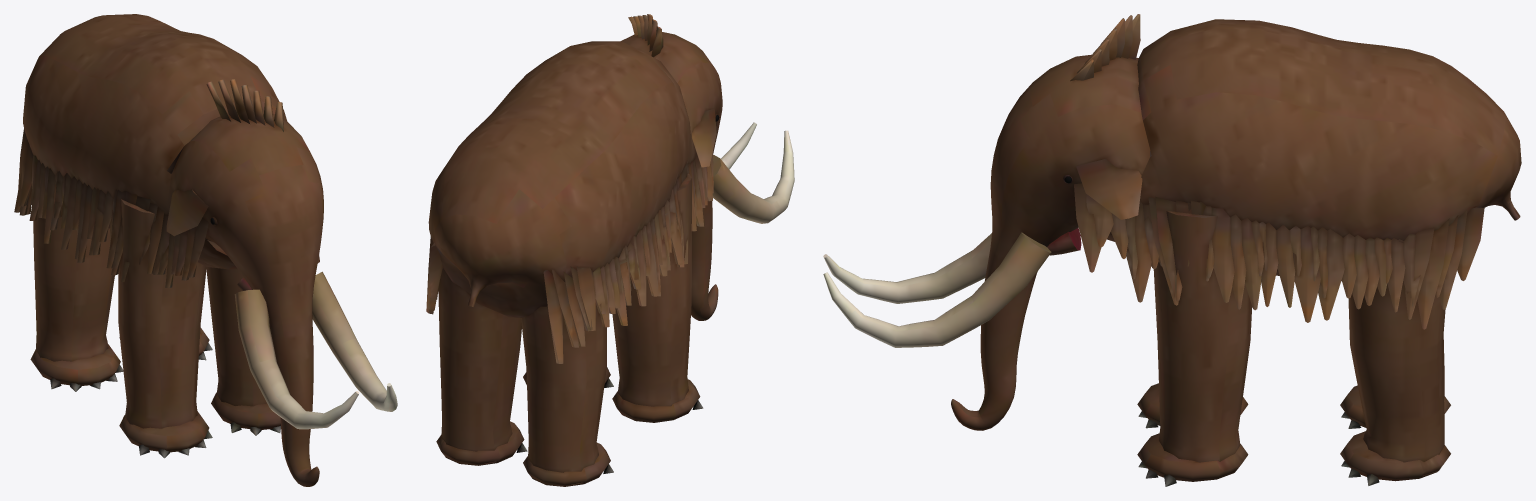
Rendered from mammoth.glb.
3 views of the same model, side by side, from view 1: azimuth 30°, elevation 25°; view 2: azimuth 150°, elevation 25°; view 3: azimuth 270°, elevation 25° (orthographic). The views are drawn at different scales.
Parts seen in each view (by area): view 1: Mammoth; view 2: Mammoth; view 3: Mammoth.
Part boxes in pixels (x1,y1,x2,y2): Mammoth: (14, 14, 397, 486); Mammoth: (426, 14, 794, 486); Mammoth: (823, 14, 1521, 486).
Size of the model in its own units: 2.6 by 5.04 by 7.51.
1 material, 1 textured.
